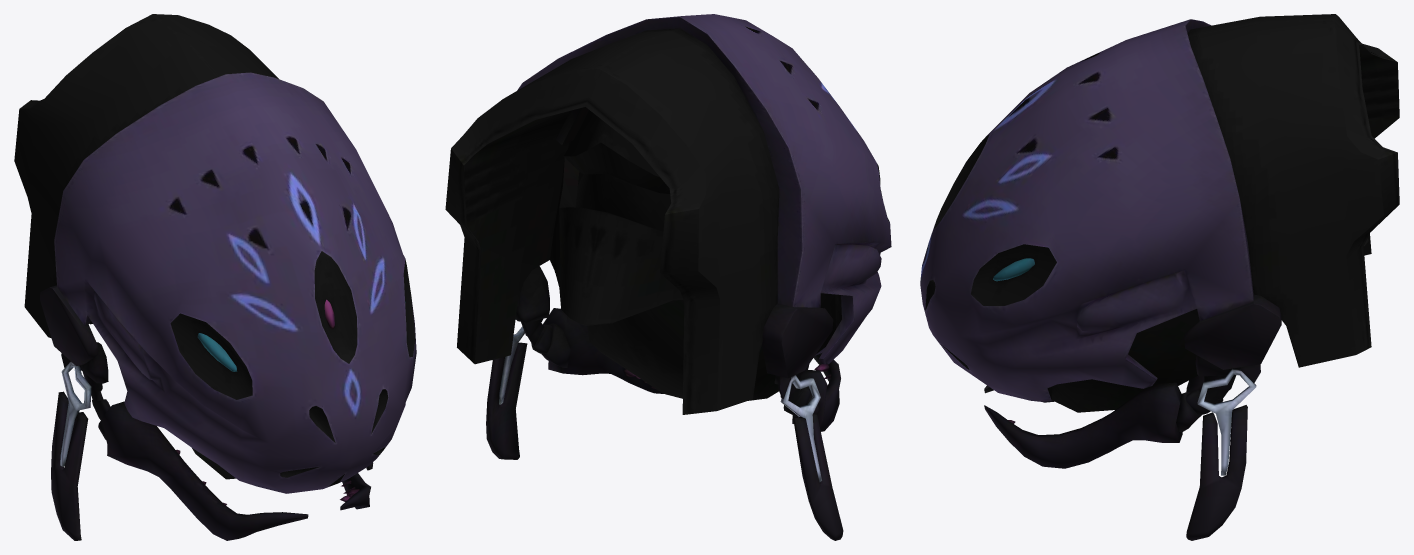
The picture shows the model from 3 angles, left to right: view 1: azimuth 30°, elevation 25°; view 2: azimuth 150°, elevation 25°; view 3: azimuth 270°, elevation 25°; orthographic projection. The views are drawn at different scales.
Parts seen in each view (by area): view 1: c32_106_00 head; view 2: c32_106_00 head; view 3: c32_106_00 head.
Boxes of the visible parts, left/top/right/bottom form: c32_106_00 head: left=14, top=14, right=416, bottom=540; c32_106_00 head: left=445, top=14, right=891, bottom=540; c32_106_00 head: left=920, top=14, right=1399, bottom=540.
Size of the model in its own units: 2.57 by 3.55 by 3.44.
1 material, 1 textured.
